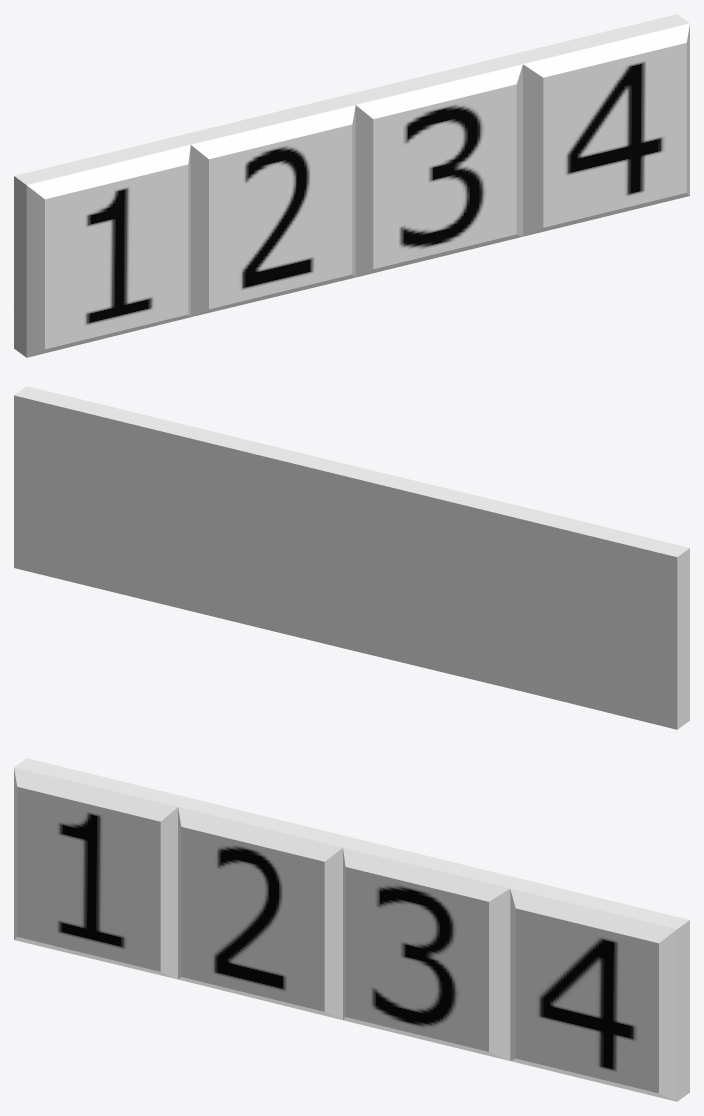
3 views of the same model, one above another, from view 1: azimuth 30°, elevation 25°; view 2: azimuth 150°, elevation 25°; view 3: azimuth 330°, elevation 25° (orthographic).
Parts seen in each view (by area): view 1: polySurface33; view 2: polySurface33; view 3: polySurface33.
Boxes of the visible parts, x1=… form: polySurface33: x1=14, y1=14, x2=689, y2=357; polySurface33: x1=14, y1=386, x2=689, y2=729; polySurface33: x1=14, y1=758, x2=689, y2=1101.
Bounding box in the file's own units: 0.8391 × 0.2093 × 0.0443.
Materials: 1 (1 with a texture image).
